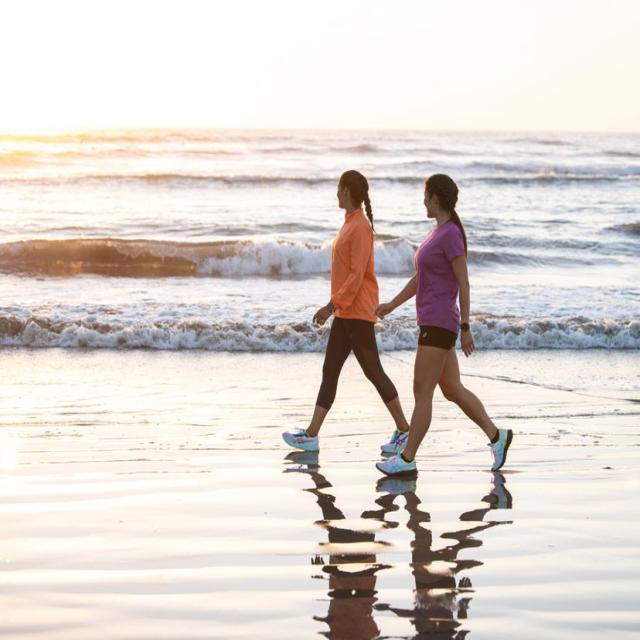Person: (376, 173, 512, 475), (280, 170, 410, 449)
